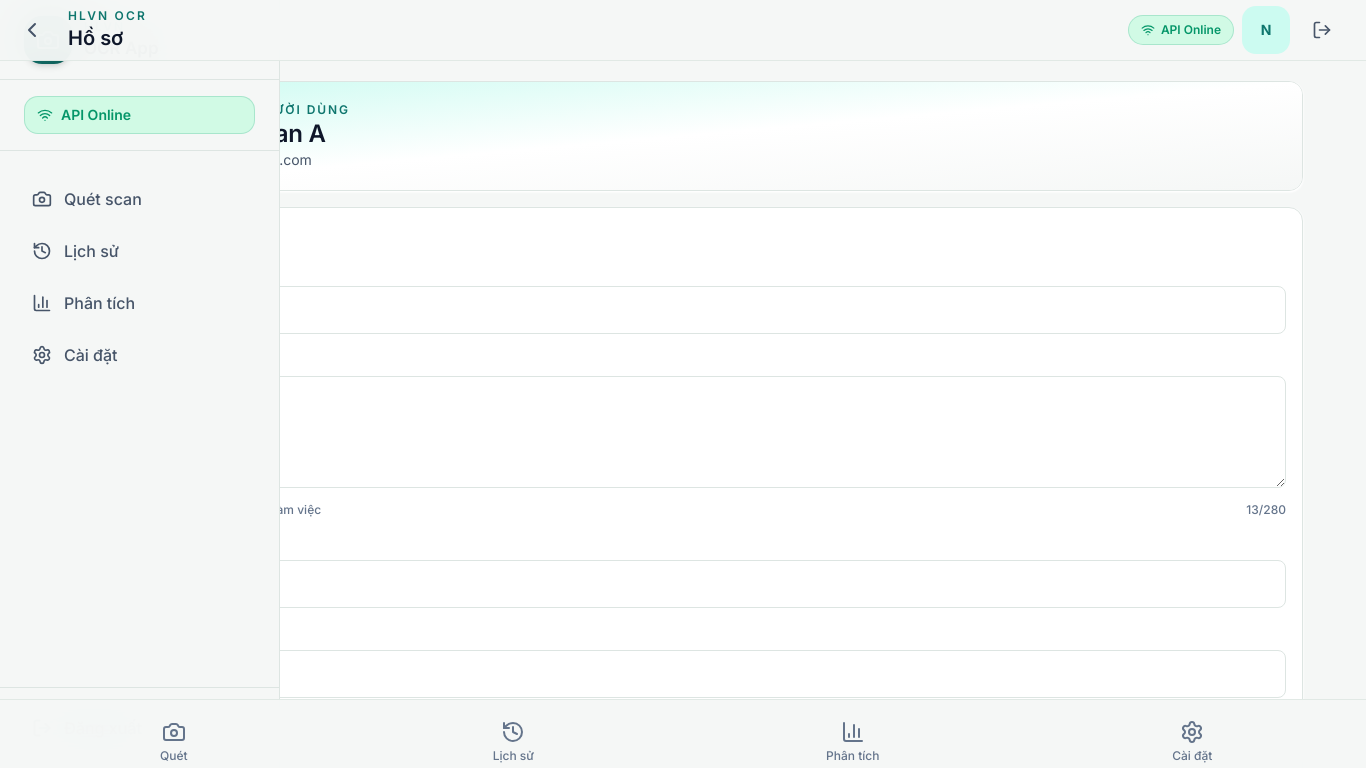
Scenario: ProfilePage › saves valid profile edits
Replace the text in the field labelled "Tên hiển thị" with "Tran Thi B": (683, 310) [80,286,1286,334]
(page scrolled)
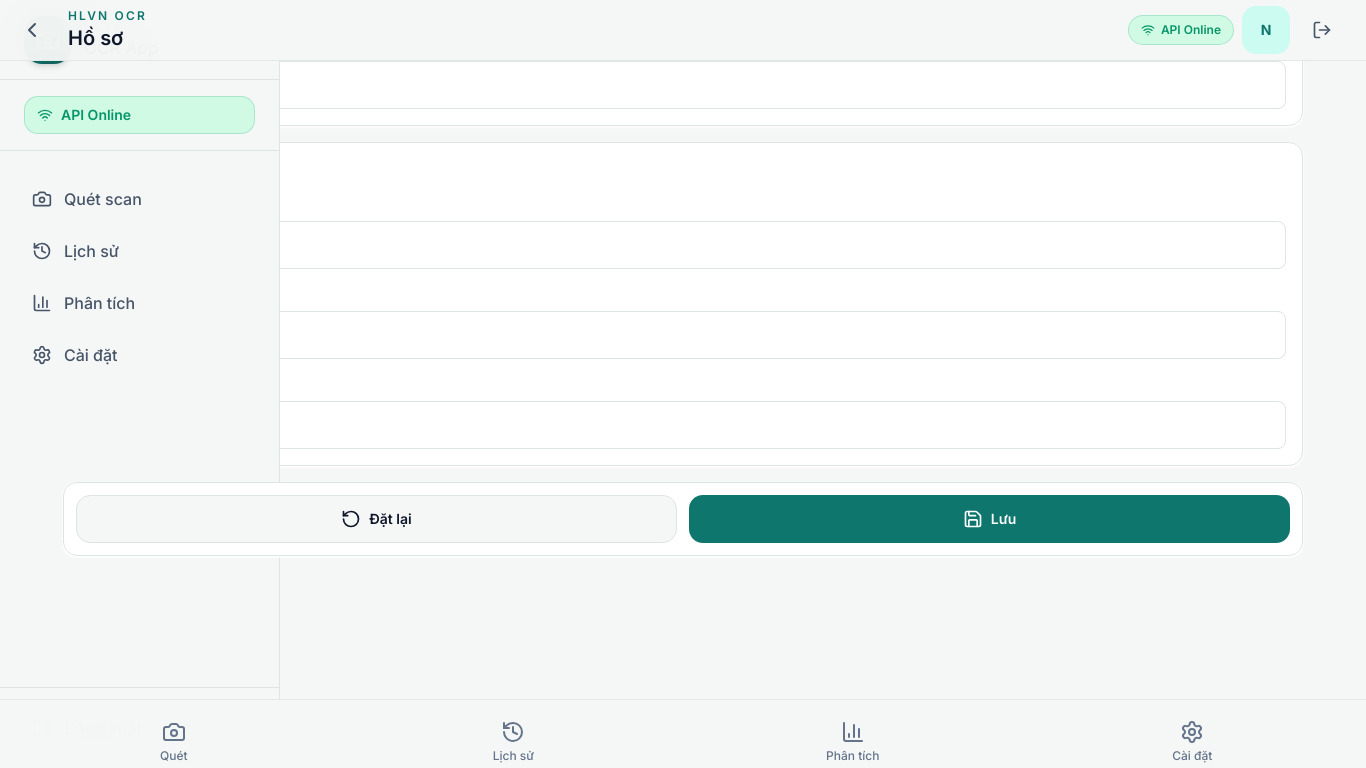
Click the button "Lưu": (990, 519) [689,495,1290,543]
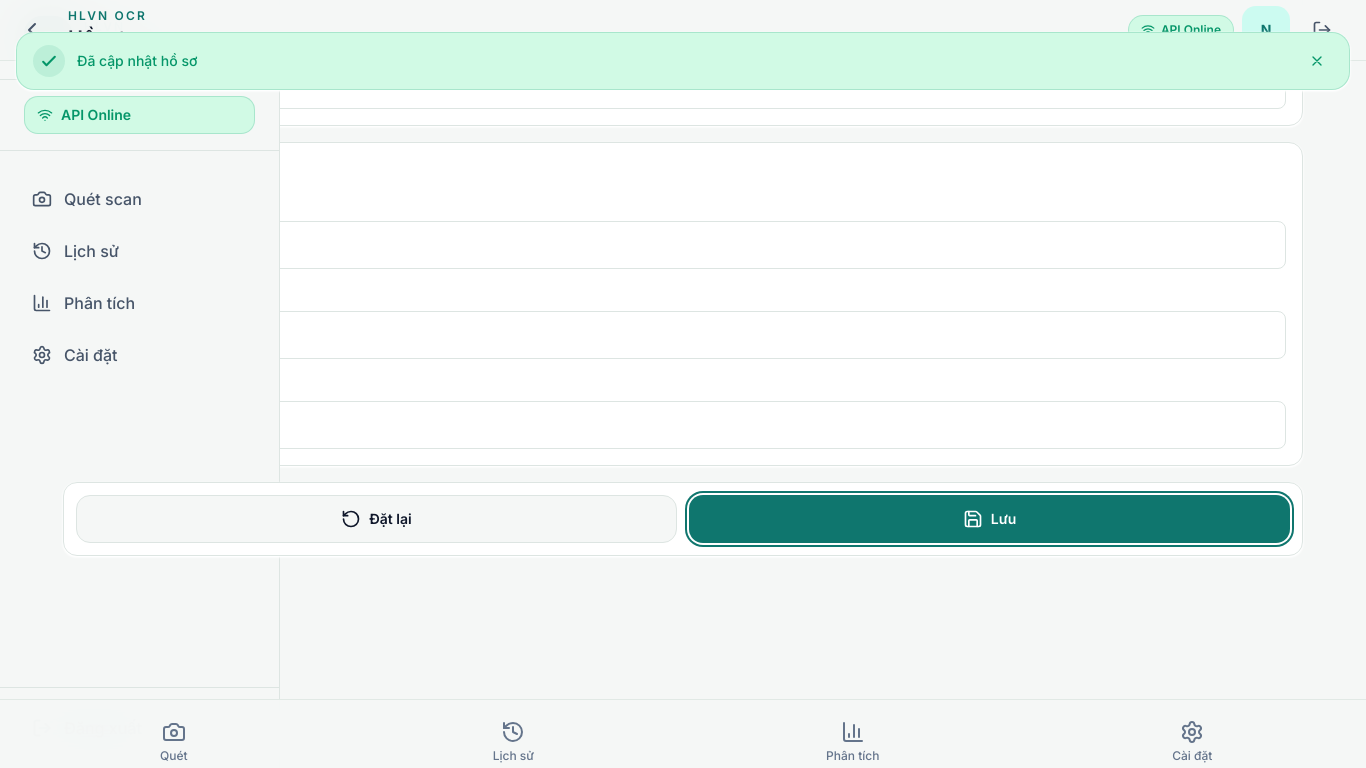
Now the text "Đã cập nhật hồ sơ" is shown, box [77,52,197,69]
